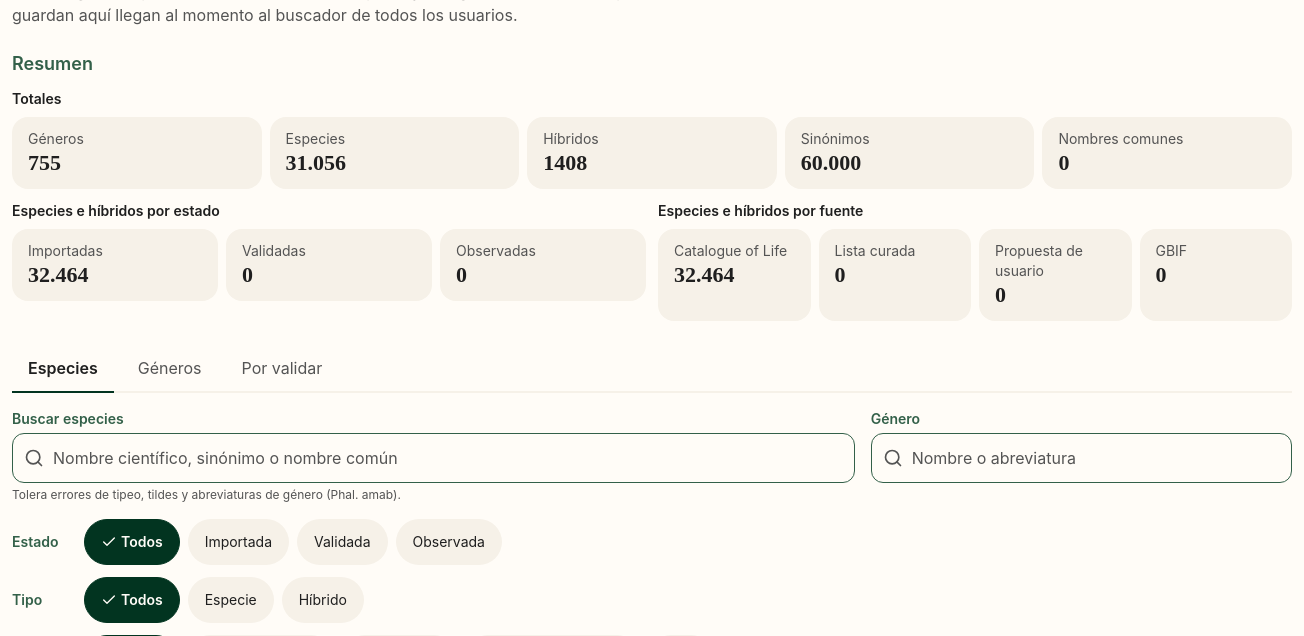
Test case: CatalogAdminPage › al escribir despacio, la respuesta tardía de lo escrito antes no pisa la de ahora
Type "doritis" into the search field labelled "Buscar especies".
click(433, 458); type("doritis")  # box [12,433,855,483]
Wait 250 ms
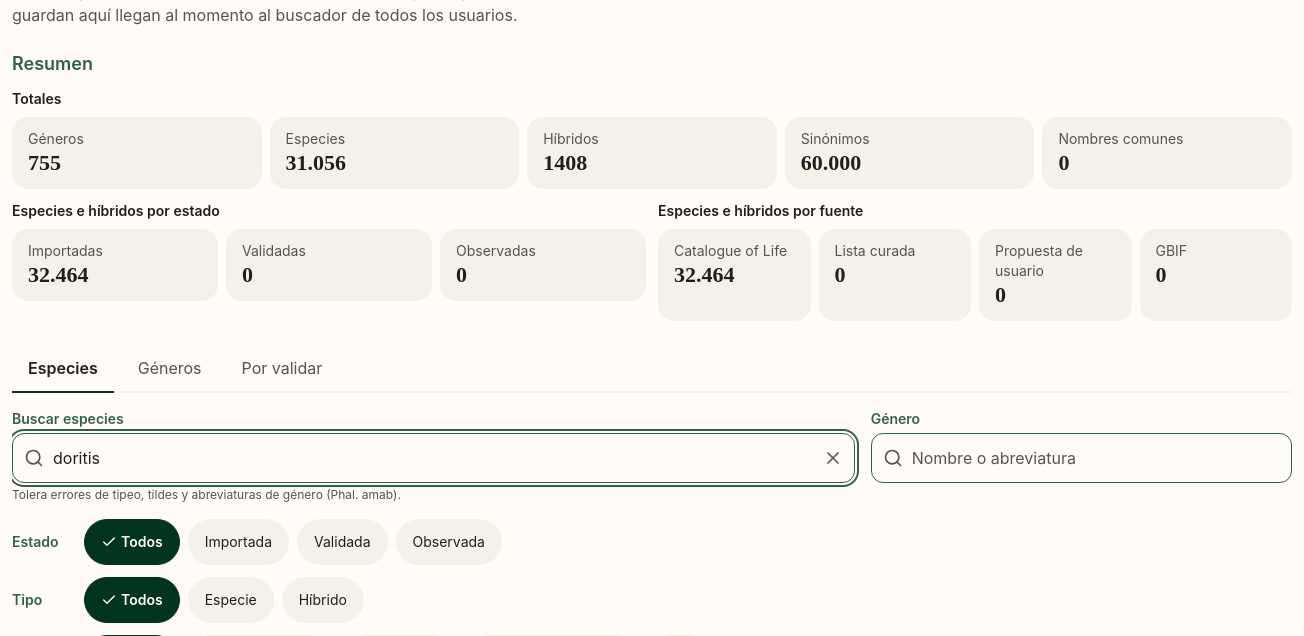
Type " pulch" into the search field labelled "Buscar especies".
click(433, 458); type(" pulch")  # box [12,433,855,483]
Wait 253 ms
(page scrolled)
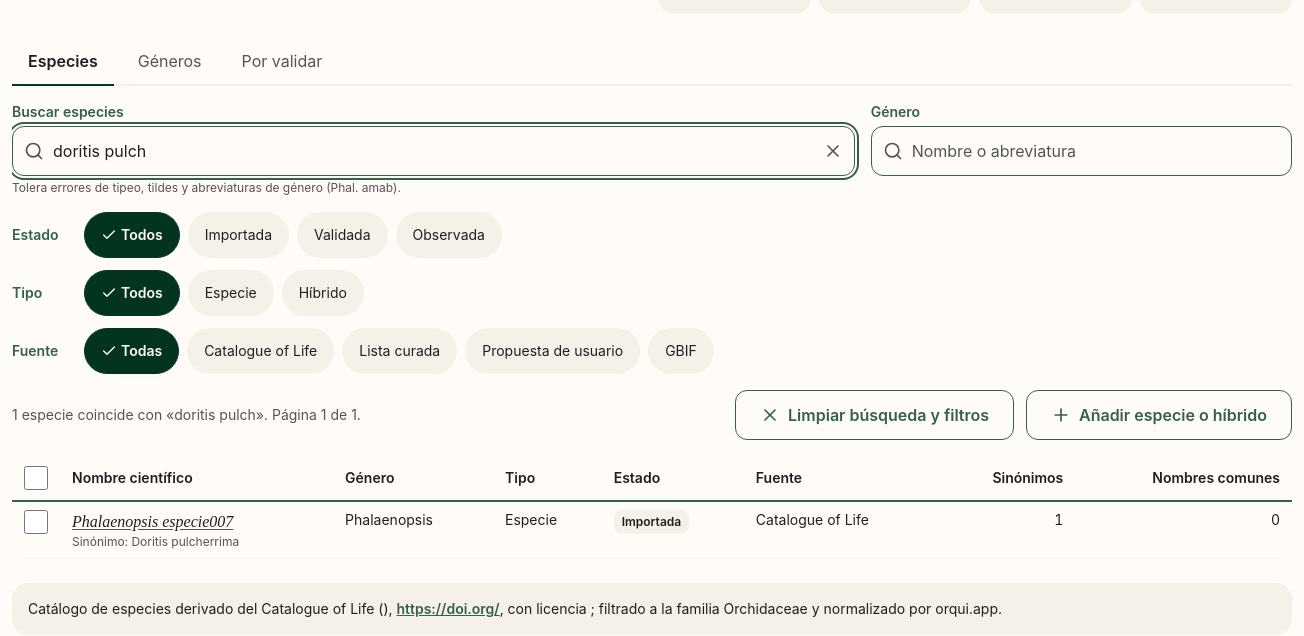
Expected: the text "Sinónimo: Doritis pulcherrima" is shown, [72,534,239,549]
Expected: the text "1 especie coincide con «doritis pulch». Página 1 de 1." is shown, [12,405,361,425]
Expected: the link "Phalaenopsis especie007" is shown, [72,513,233,530]
